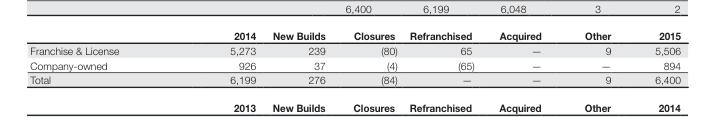table: (29, 29, 680, 85)
table column: (29, 29, 173, 85), (173, 29, 263, 85), (402, 29, 486, 85), (486, 29, 562, 85), (263, 29, 338, 85), (562, 29, 632, 85), (338, 29, 402, 85), (632, 29, 680, 85)
table column header: (29, 29, 680, 42)
table row: (29, 42, 680, 57), (29, 57, 680, 72), (29, 29, 680, 42), (29, 72, 680, 85)
